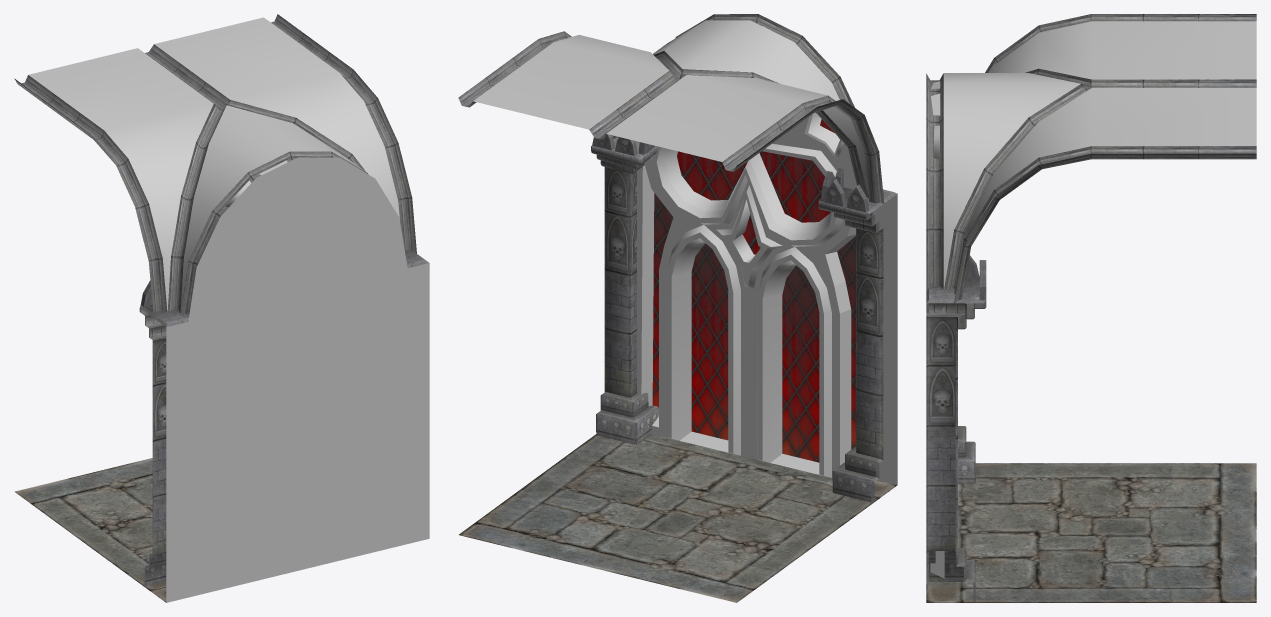
The model's file is Wall_Window4.FBX.
3 views of the same model, side by side, from view 1: azimuth 30°, elevation 25°; view 2: azimuth 150°, elevation 25°; view 3: azimuth 270°, elevation 25° (orthographic). The views are drawn at different scales.
Parts seen in each view (by area): view 1: WallOrnament_window; view 2: WallOrnament_window; view 3: WallOrnament_window.
Part boxes in pixels (left/top/right/bottom): WallOrnament_window: left=14, top=14, right=429, bottom=602; WallOrnament_window: left=458, top=14, right=897, bottom=602; WallOrnament_window: left=926, top=14, right=1256, bottom=602.
Size of the model in its own units: 500 by 750 by 500.
